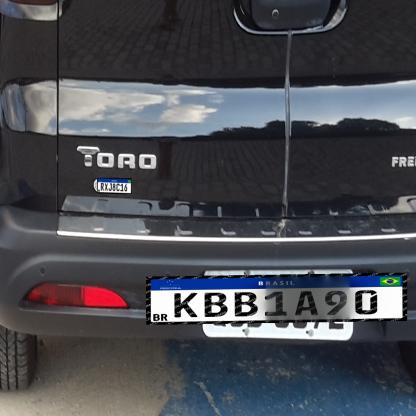PlacaM: (146, 272, 407, 324), (97, 178, 132, 194)
